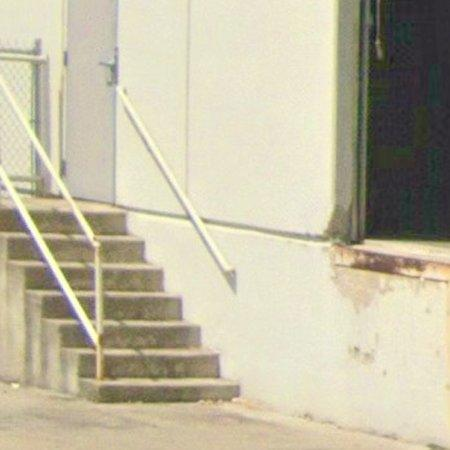stairs: (0, 198, 240, 403), (26, 198, 94, 321)
